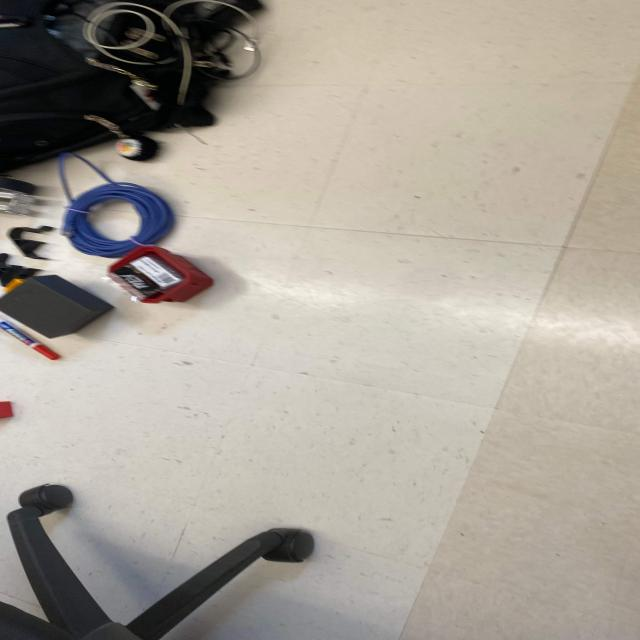red-specimen: (0, 401, 14, 419)
yellow-specimen: (4, 279, 25, 293)
